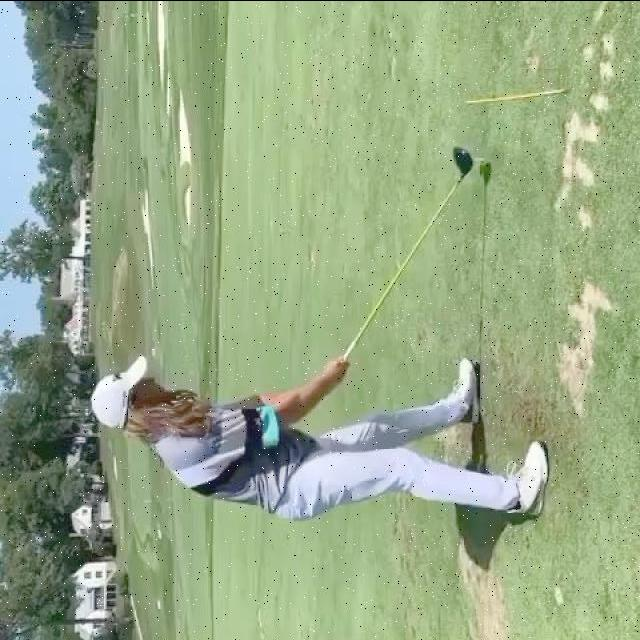ClubHandle: (336, 145, 474, 365)
ClubHead: (452, 147, 477, 177)
